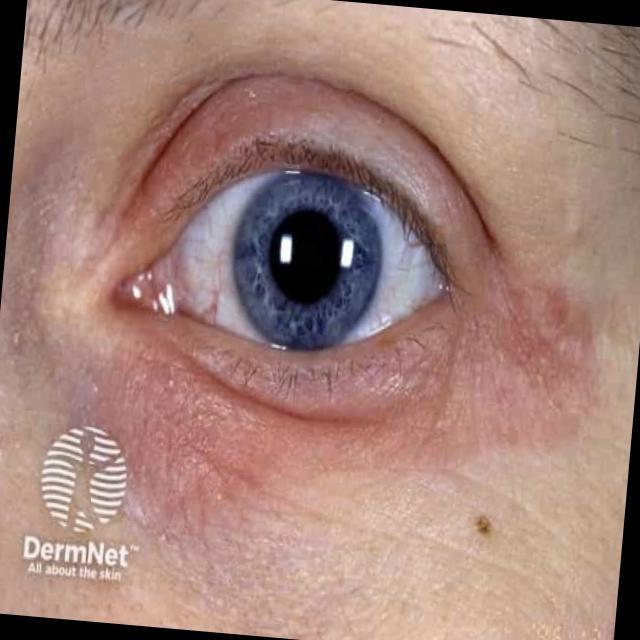Eczema: (0, 139, 596, 513)
